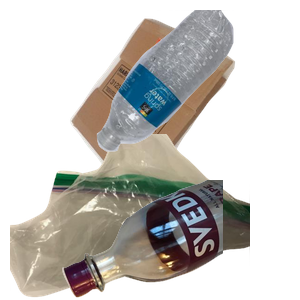cardboard: (67, 16, 295, 196)
glass: (60, 180, 300, 300)
plastic: (94, 10, 300, 154)
trash: (10, 134, 250, 300)
